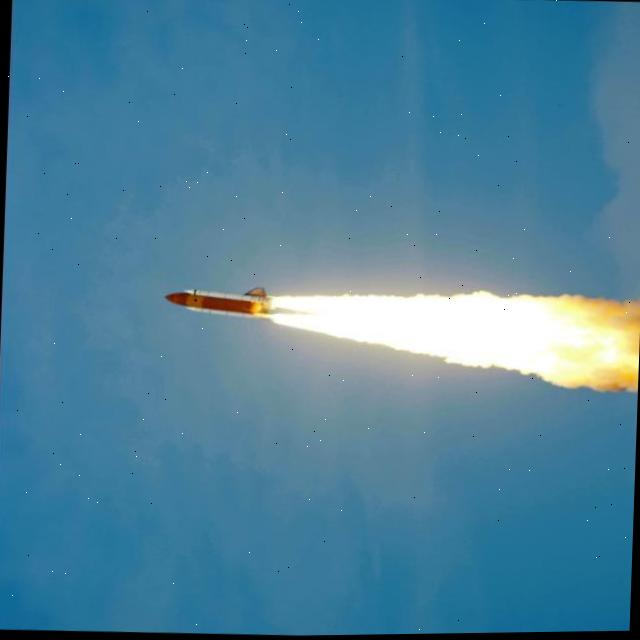missile: (157, 274, 277, 331)
